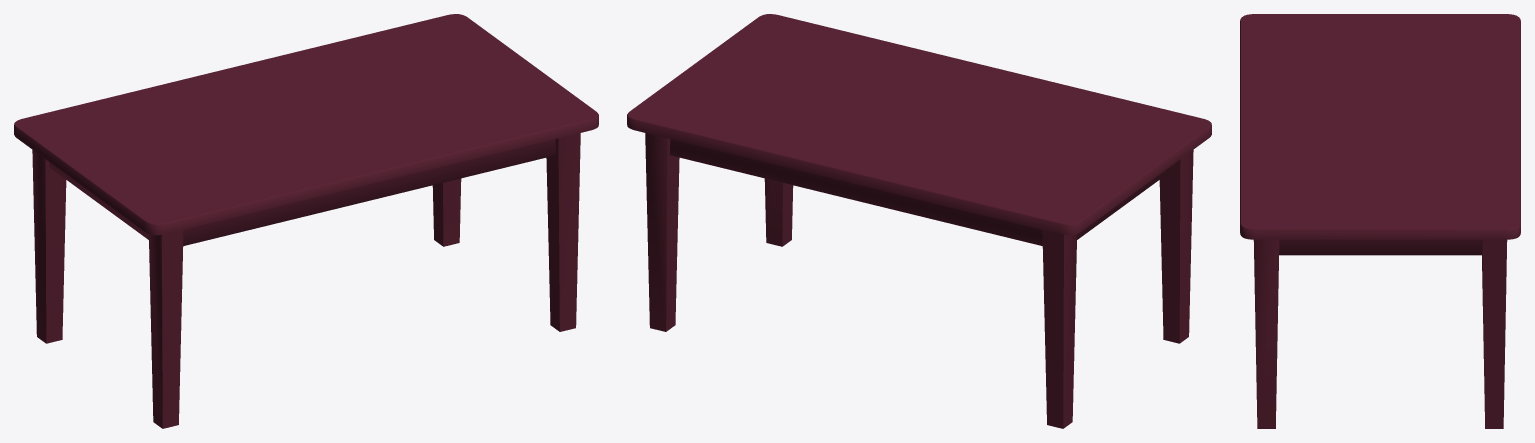
File: Project Name.gltf
3 views of the same model, side by side, from view 1: azimuth 30°, elevation 25°; view 2: azimuth 150°, elevation 25°; view 3: azimuth 270°, elevation 25° (orthographic). The views are drawn at different scales.
Parts seen in each view (by area): view 1: Table; view 2: Table; view 3: Table.
Boxes of the visible parts, x1,y1,x2,y2 form: Table: (14,14,598,428); Table: (627,14,1211,428); Table: (1240,14,1520,428).
Size of the model in its own units: 0.182 by 0.0822 by 0.1001.
